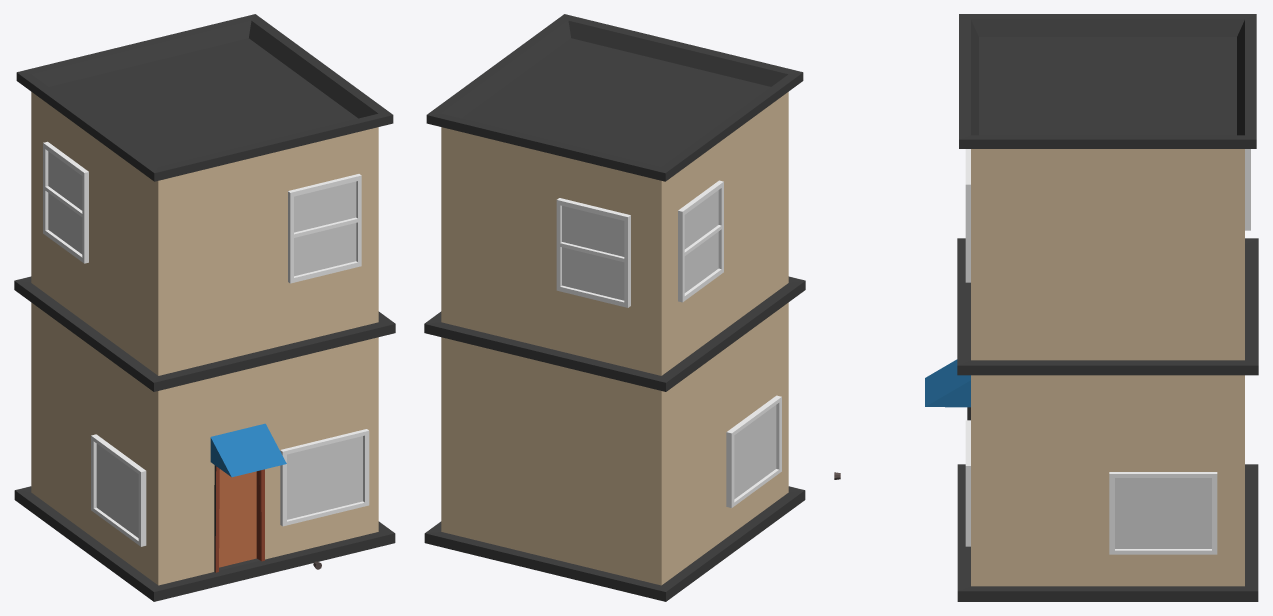
The model's file is building1.fbx.
3 views of the same model, side by side, from view 1: azimuth 30°, elevation 25°; view 2: azimuth 150°, elevation 25°; view 3: azimuth 270°, elevation 25° (orthographic). The views are drawn at different scales.
Parts seen in each view (by area): view 1: building1; view 2: building1; view 3: building1.
Boxes of the visible parts, x1,y1,x2,y2 form: building1: (14,14,395,601); building1: (424,14,805,601); building1: (834,14,1258,601).
Size of the model in its own units: 220 by 372 by 310.
